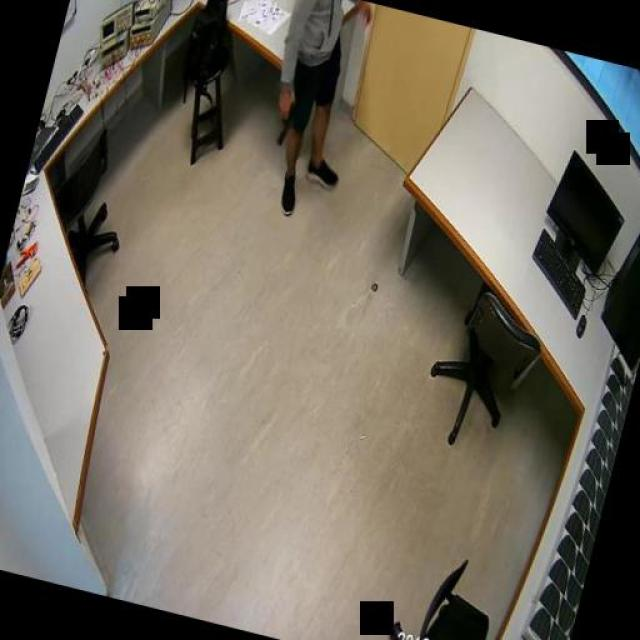gun: (271, 96, 299, 146)
